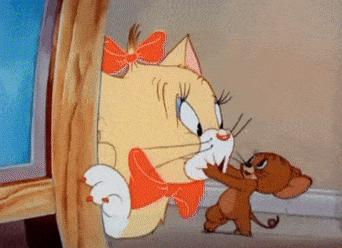jerry: (203, 150, 316, 238)
